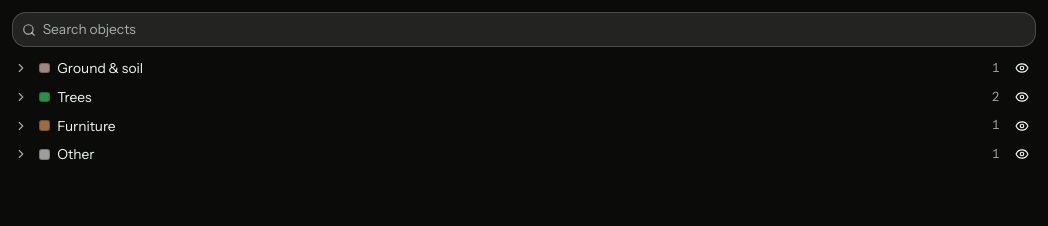
Test: the objects panel › hides a whole category with its eye, and Reset brings it back
The width and height of the screenshot is (1048, 226).
Click the button named "Hide Trees": point(1022, 97) [1008,83,1036,111]
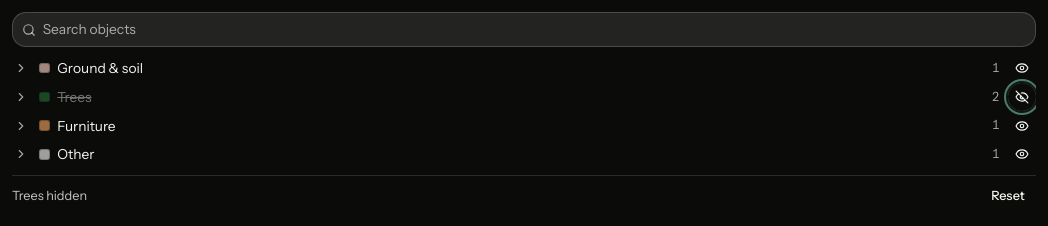
Expected: the message reads "Trees hidden", [12,188,87,203]
Click the button named "Show Trees": point(1022, 97) [1008,83,1036,111]
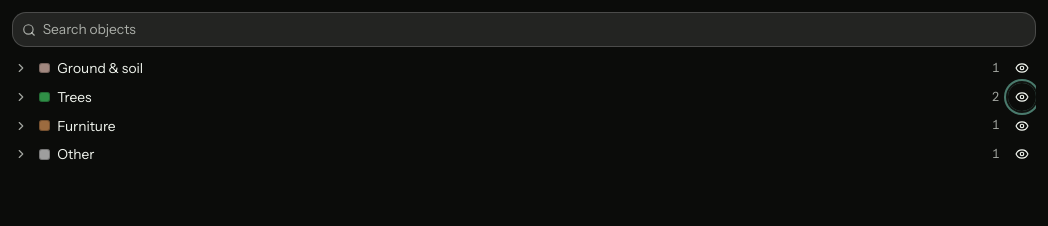
Click the button named "Hide Ground & soil": point(1022, 68) [1008,54,1036,82]
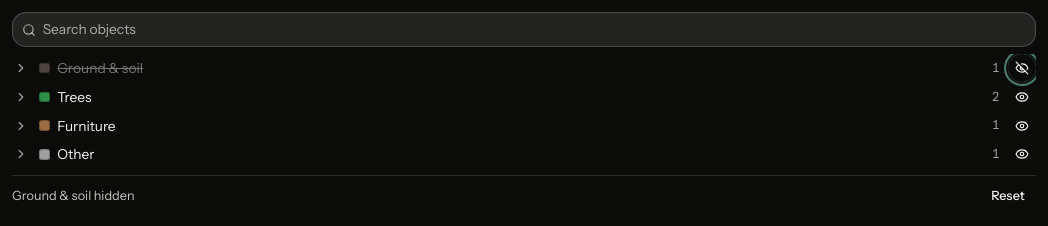
Click the button "Reset": point(1008, 196) [980,182,1036,210]
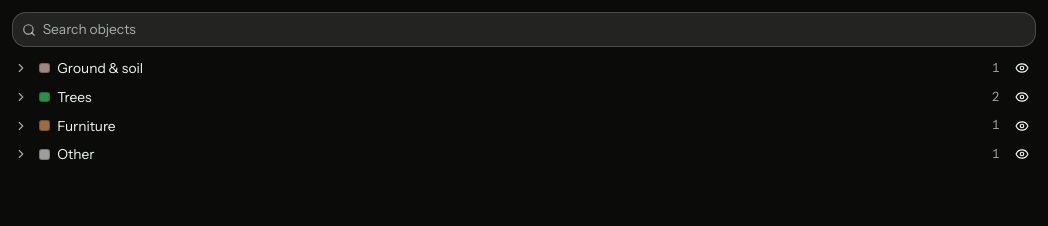
Expected: the button "Reset" is gone
